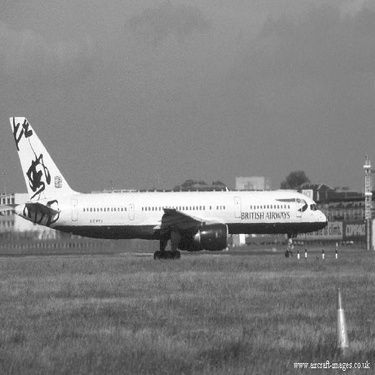airplane: (1, 106, 342, 266)
